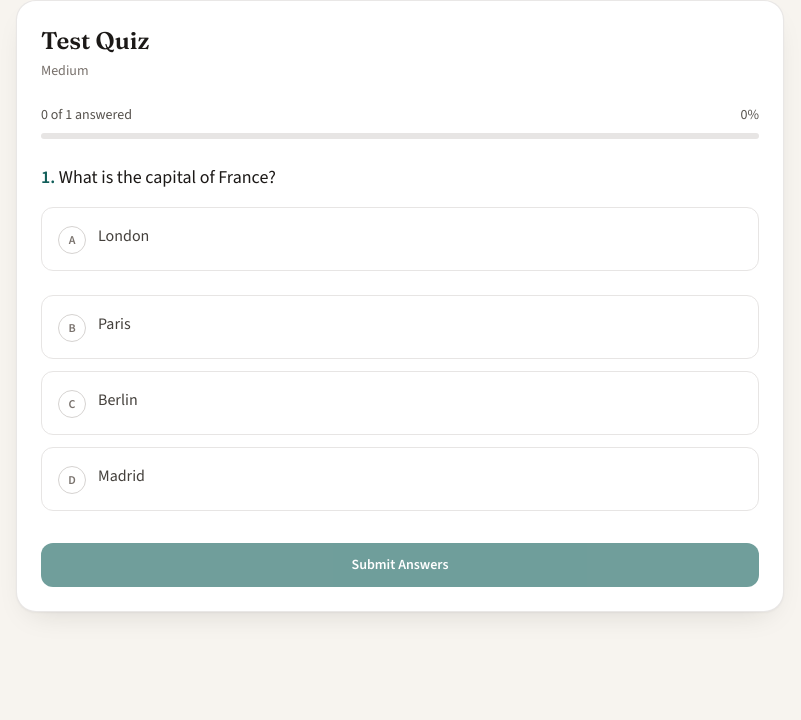
Test: QuizPage › shows an explain button after answers are submitted
Click the text "Paris". click: (114, 324)
box: x1=98 y1=313 x2=131 y2=334
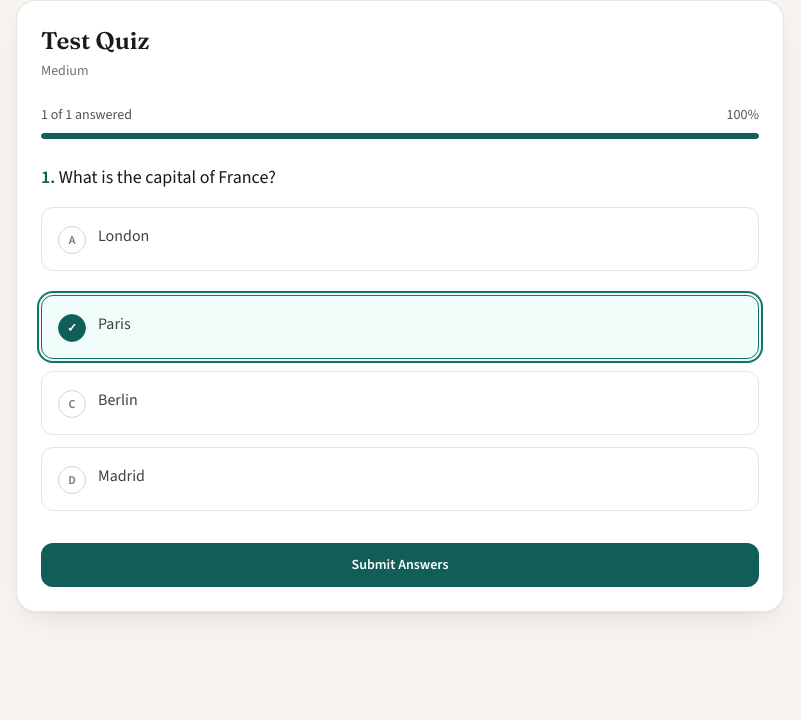
Click the button "Submit Answers". click: (400, 565)
box: x1=41 y1=543 x2=759 y2=587
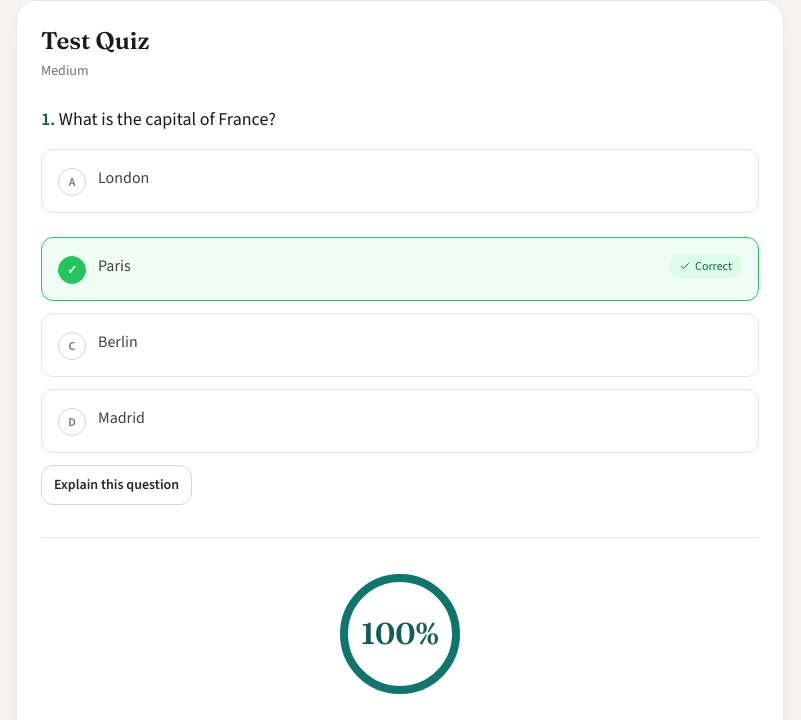
Now the button "Explain this question" is shown, box x1=41 y1=465 x2=192 y2=505
